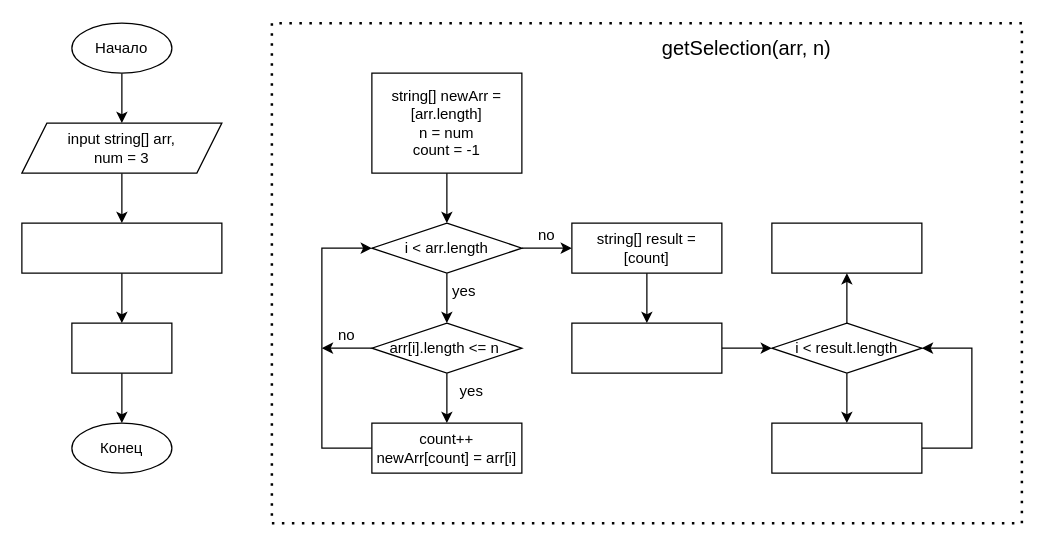
This 1046x546 diagram has some shape labels left out. Here are the shapes that lost their labels. From the top down, the box of each, then its label:
(21, 222, 222, 273): string[] newArr = getSelection(arr, num)
(771, 222, 922, 273): return result
(71, 322, 172, 373): print newArr
(571, 322, 722, 373): i = 0
(771, 422, 922, 473): result[i] = newArr[i] i++
